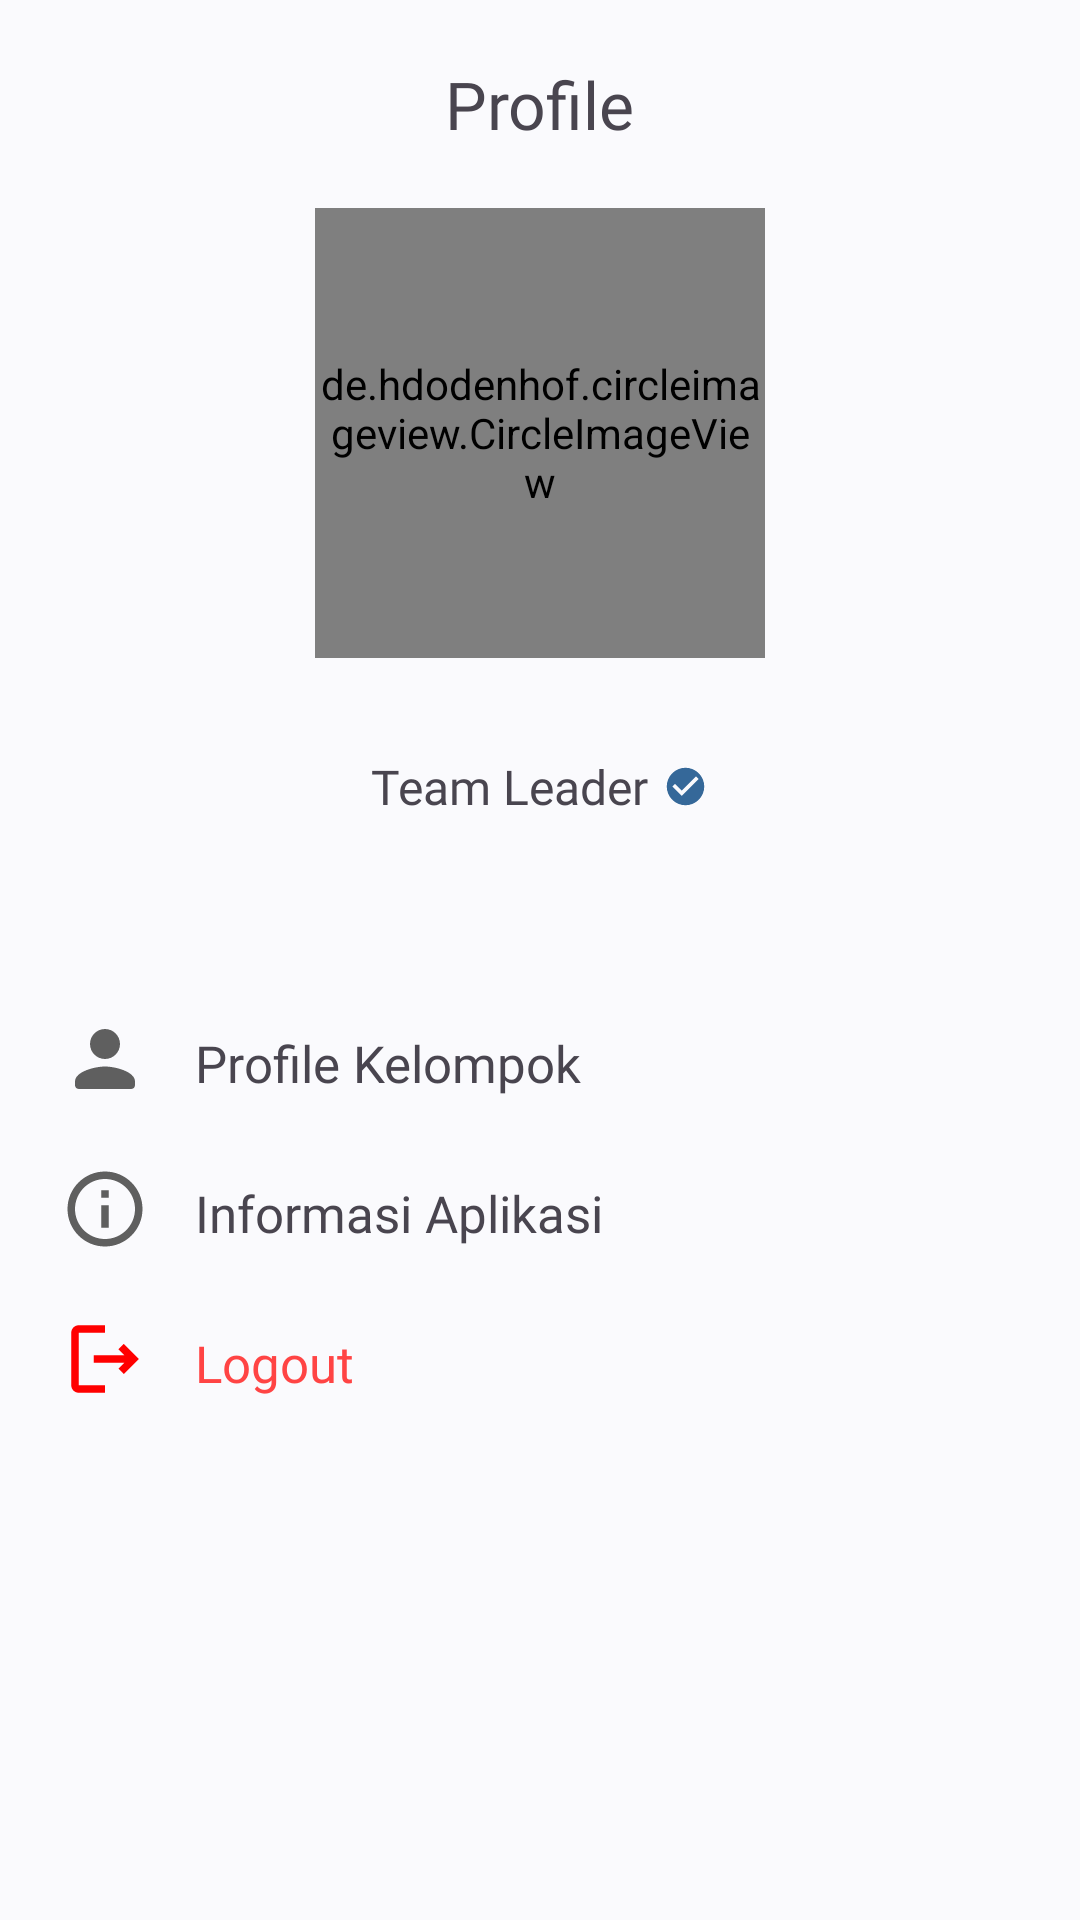

Icons on this 1080px x 1920px Android screen, each with the point to tap as [x,y]:
Icon Person Button: [105,1059]
